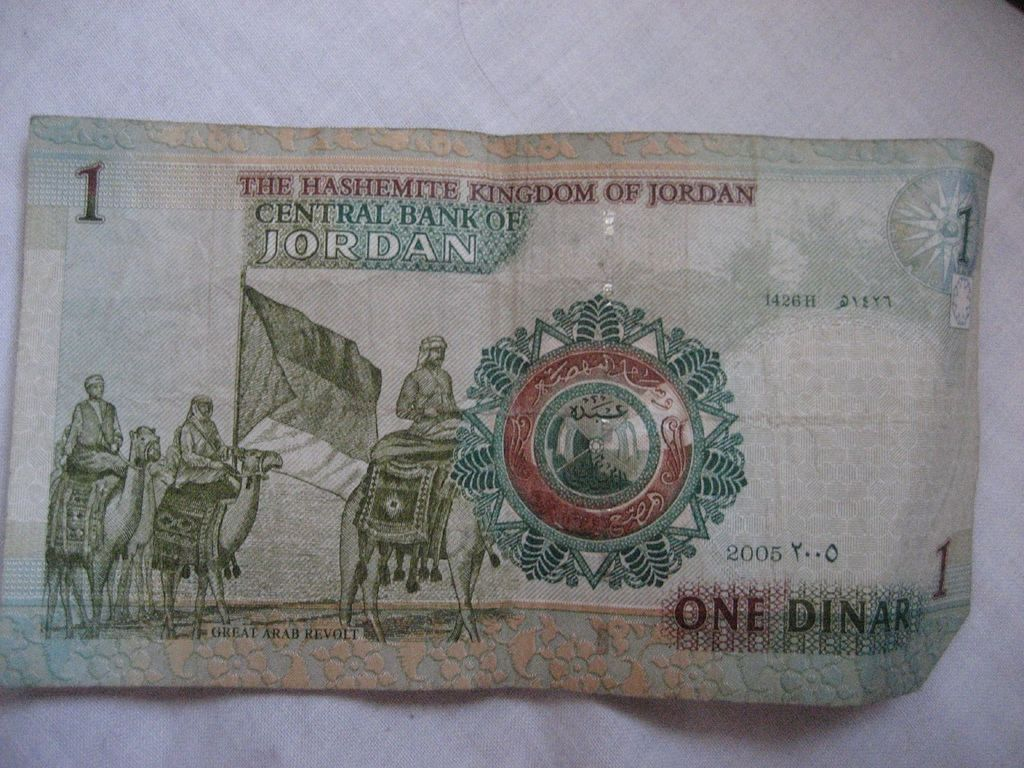Person: (172, 395, 244, 487), (61, 373, 124, 473), (396, 335, 457, 438)
